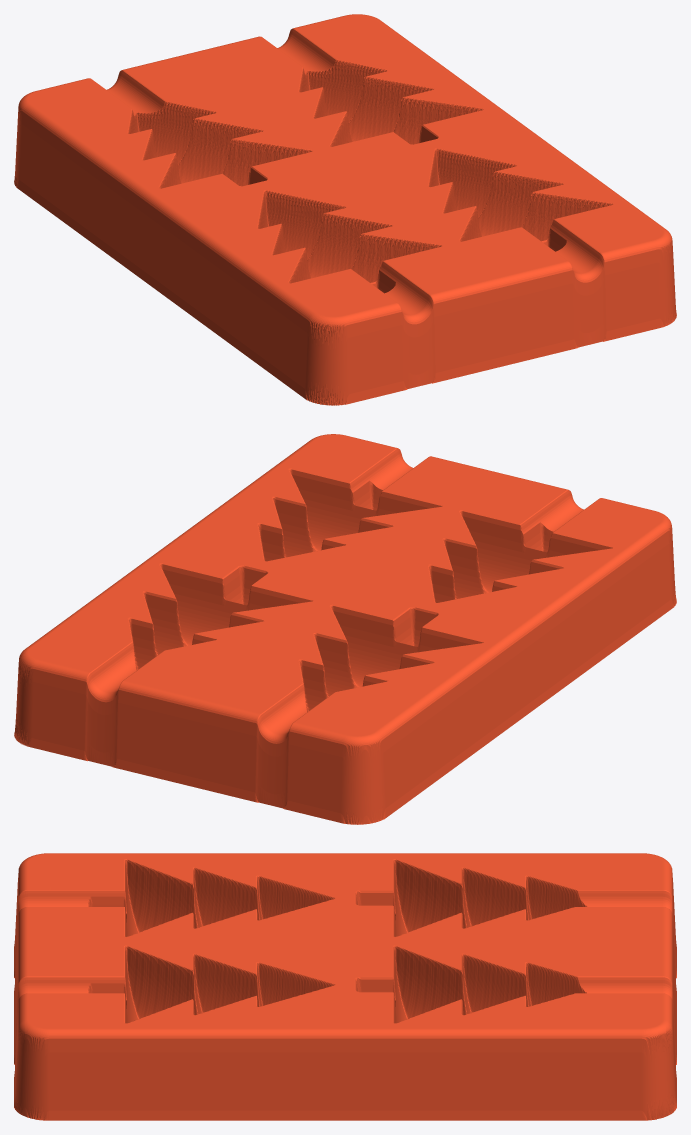
The model's file is mold.glb.
3 renders of one model, top to bottom at view 1: azimuth 30°, elevation 25°; view 2: azimuth 150°, elevation 25°; view 3: azimuth 270°, elevation 25°, orthographic. The views are drawn at different scales.
Parts seen in each view (by area): view 1: geometry_0; view 2: geometry_0; view 3: geometry_0.
Boxes of the visible parts, x1,y1,x2,y2 form: geometry_0: [14, 14, 676, 405]; geometry_0: [14, 434, 676, 824]; geometry_0: [14, 853, 676, 1120].
Size of the model in its own units: 0.1138 by 0.0245 by 0.171.
